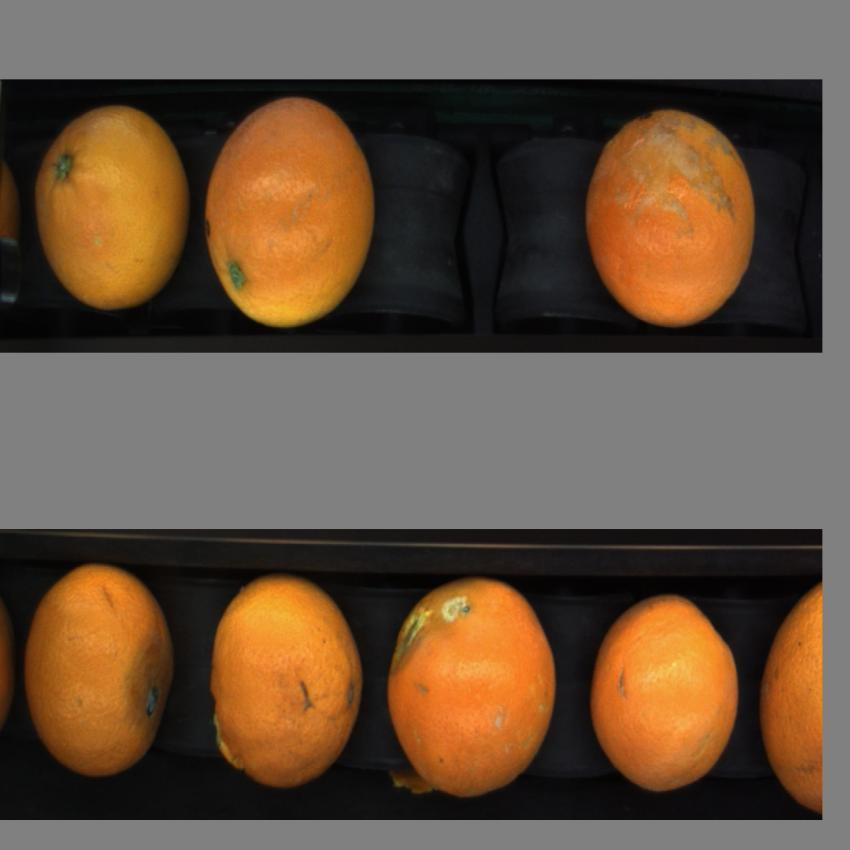Buen estado: (203, 91, 386, 336), (583, 98, 764, 329), (27, 105, 193, 325), (588, 578, 745, 808), (760, 583, 826, 818)
Mal estado: (387, 585, 563, 808), (207, 577, 375, 800), (23, 564, 172, 789)
